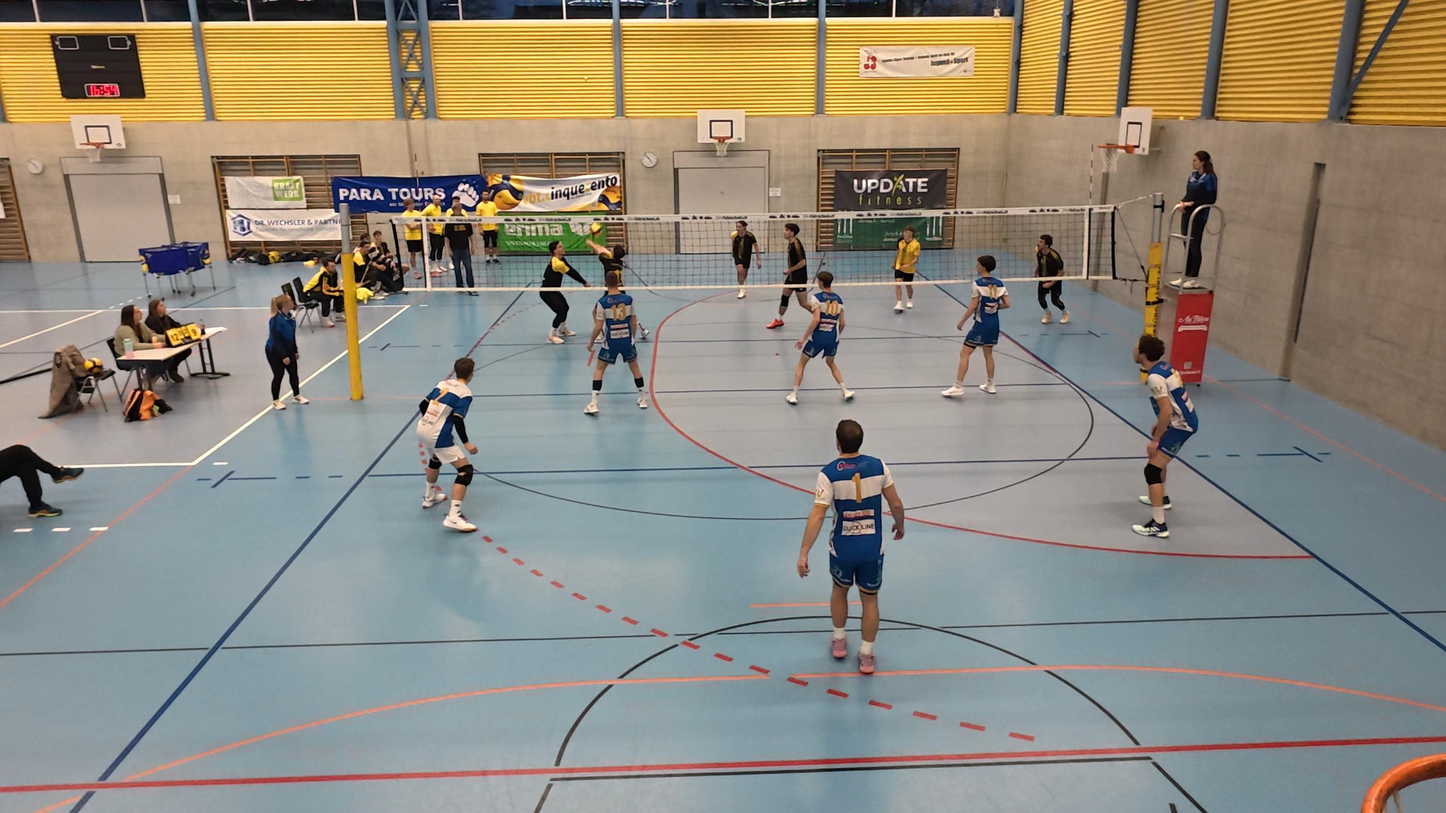alzata: (586, 241, 632, 283)
